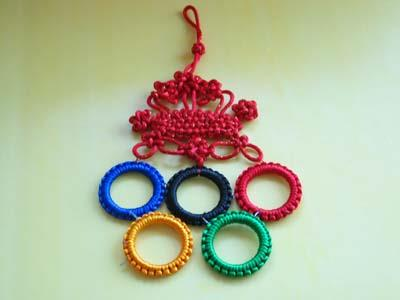Olympic_rings: (95, 155, 301, 278)
